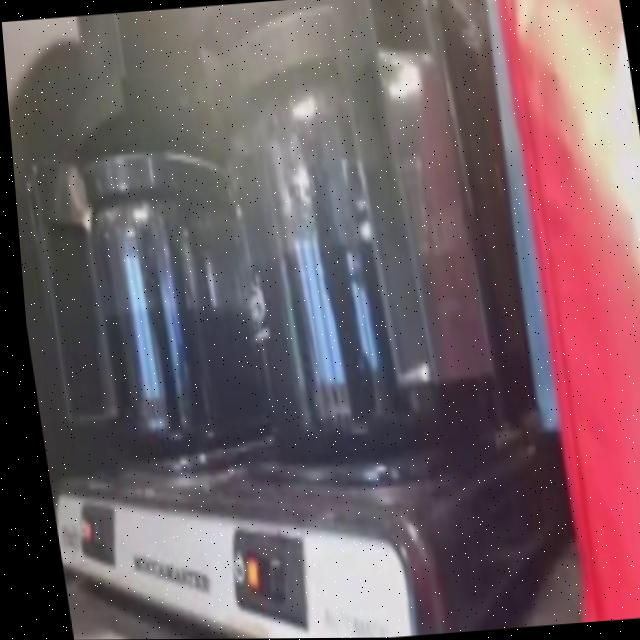coffee: (178, 0, 480, 485), (25, 102, 280, 461)
